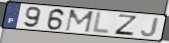6: (47, 8, 67, 31)
9: (22, 6, 42, 29)
J: (140, 17, 160, 38)
L: (90, 12, 111, 36)
M: (64, 9, 95, 34)
Z: (113, 13, 139, 37)
